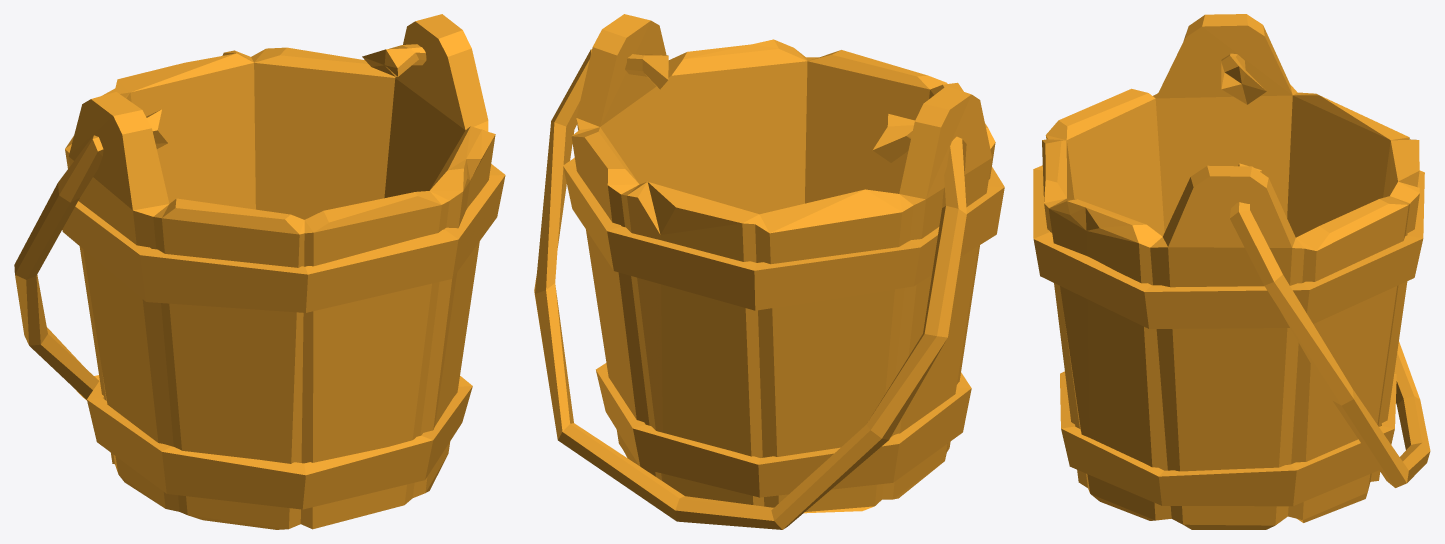
Rendered from SM_Bucket_Wooden_A_Fantasy.fbx.
3 renders of one model, left to right at view 1: azimuth 30°, elevation 25°; view 2: azimuth 150°, elevation 25°; view 3: azimuth 270°, elevation 25°, orthographic. The views are drawn at different scales.
Parts seen in each view (by area): view 1: bucket-wooden-a-fantasy-base, bucket-wooden-a-fantasy-handle; view 2: bucket-wooden-a-fantasy-base, bucket-wooden-a-fantasy-handle; view 3: bucket-wooden-a-fantasy-base, bucket-wooden-a-fantasy-handle.
Part boxes in pixels (<box>): bucket-wooden-a-fantasy-base: <box>62,14,505,529</box>; bucket-wooden-a-fantasy-handle: <box>14,44,426,400</box>; bucket-wooden-a-fantasy-base: <box>563,14,1004,513</box>; bucket-wooden-a-fantasy-handle: <box>534,49,966,529</box>; bucket-wooden-a-fantasy-base: <box>1033,14,1424,529</box>; bucket-wooden-a-fantasy-handle: <box>1221,53,1430,487</box>.
Bounding box in the file's own units: 0.3819 × 0.3429 × 0.3286.
